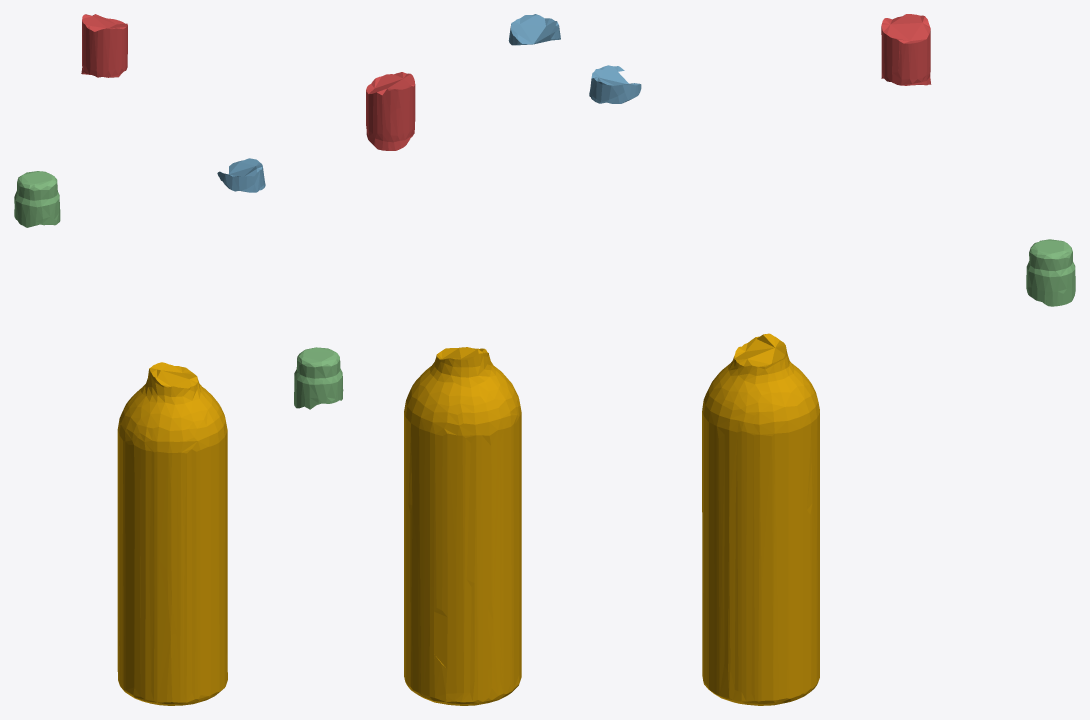
The model's file is fractured_23_4pcs_transformed.glb.
3 renders of one model, left to right at view 1: azimuth 30°, elevation 25°; view 2: azimuth 150°, elevation 25°; view 3: azimuth 270°, elevation 25°, orthographic. The views are drawn at different scales.
Visible parts, largest first — view 1: piece_0.obj, piece_1.obj, piece_3.obj, piece_2.obj; view 2: piece_0.obj, piece_1.obj, piece_3.obj, piece_2.obj; view 3: piece_0.obj, piece_1.obj, piece_3.obj, piece_2.obj.
Part boxes in pixels (x1,y1,x2,y2): piece_0.obj: (117, 362, 227, 705); piece_1.obj: (81, 14, 127, 77); piece_3.obj: (14, 171, 60, 227); piece_2.obj: (217, 158, 265, 192); piece_0.obj: (404, 347, 521, 705); piece_1.obj: (366, 72, 415, 150); piece_3.obj: (294, 347, 343, 409); piece_2.obj: (508, 14, 560, 45); piece_0.obj: (702, 333, 819, 705); piece_1.obj: (881, 14, 931, 85); piece_3.obj: (1026, 239, 1075, 306); piece_2.obj: (589, 65, 641, 103).
Bounding box in the file's own units: 0.2438 × 1.51 × 1.01.
